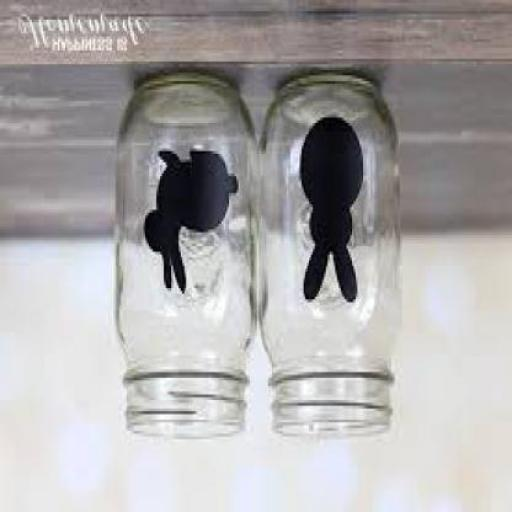glass: (249, 75, 397, 439), (114, 75, 255, 439)
